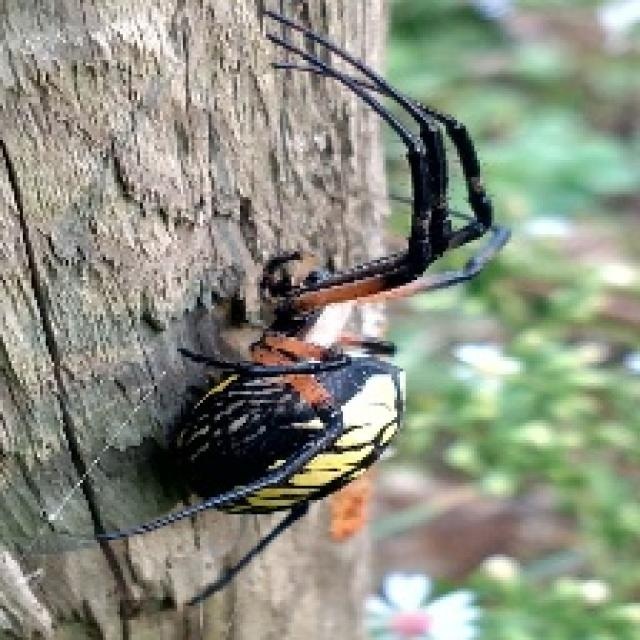Non venomous spider: (110, 8, 522, 606)
